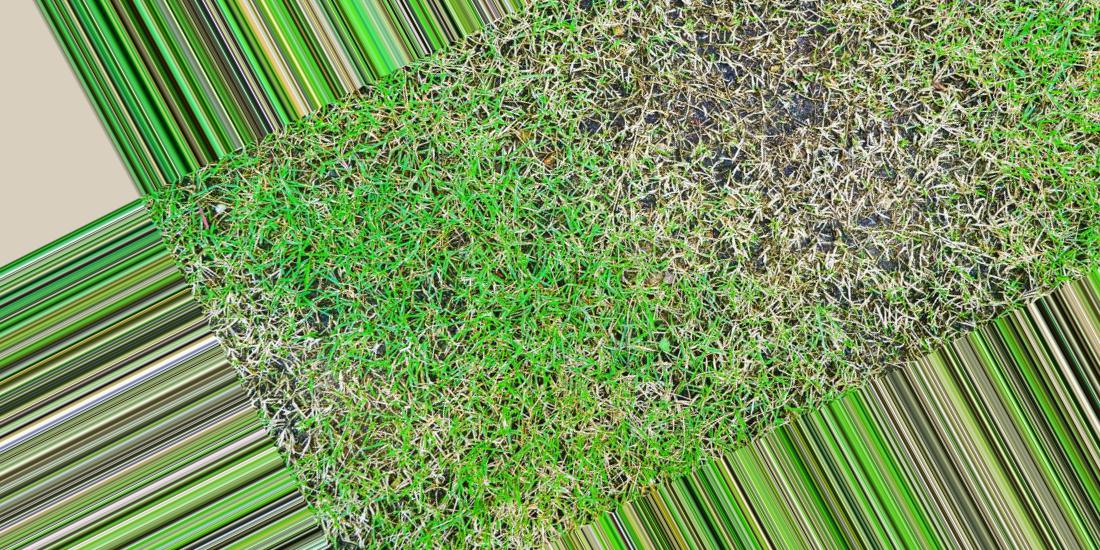patch: (672, 21, 894, 290)
